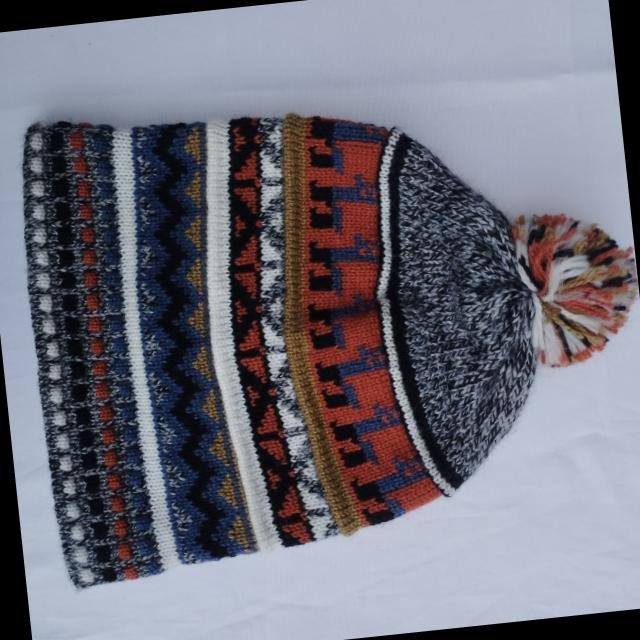Gorro: (9, 61, 640, 593)
